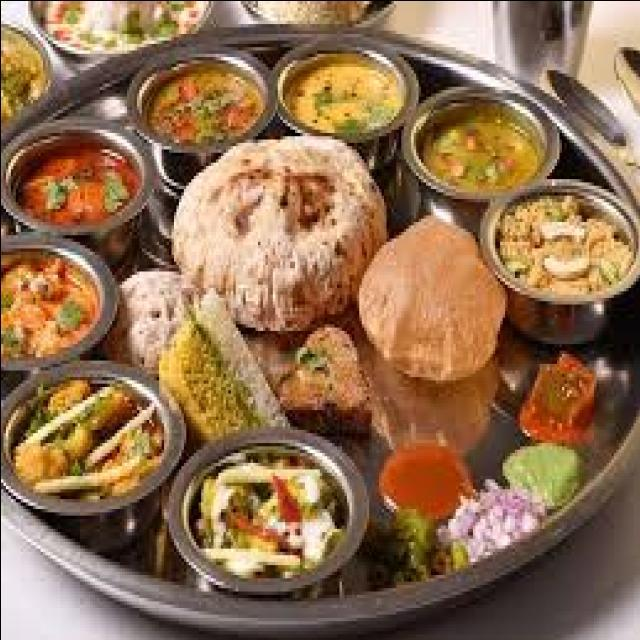dal: (411, 84, 556, 203), (270, 42, 421, 144)
papad: (355, 214, 501, 394)
rice: (0, 24, 48, 130)
roti: (173, 135, 373, 343)
sambar-rasam: (374, 441, 476, 516)
veg-fry: (0, 355, 176, 523), (490, 177, 635, 310), (408, 84, 555, 200), (11, 122, 143, 246), (3, 229, 108, 377), (140, 50, 266, 162)
